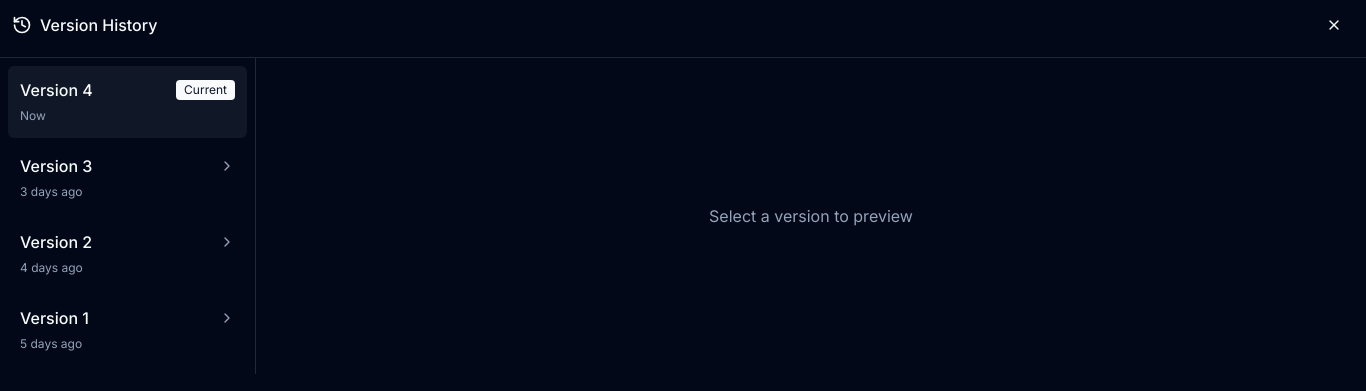
Test: NoteVersionHistory › should preview version content on click
The width and height of the screenshot is (1366, 391).
Click the button "Version 2 4 days ago".
click(128, 254)  # box [8, 218, 247, 290]
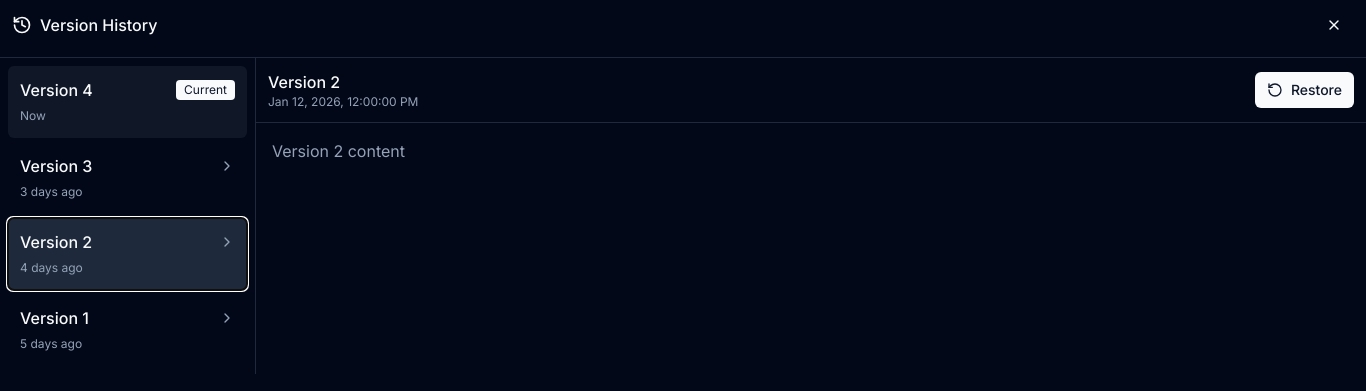
expect the text "Version 2 content" is shown: met, box [272, 141, 405, 161]
